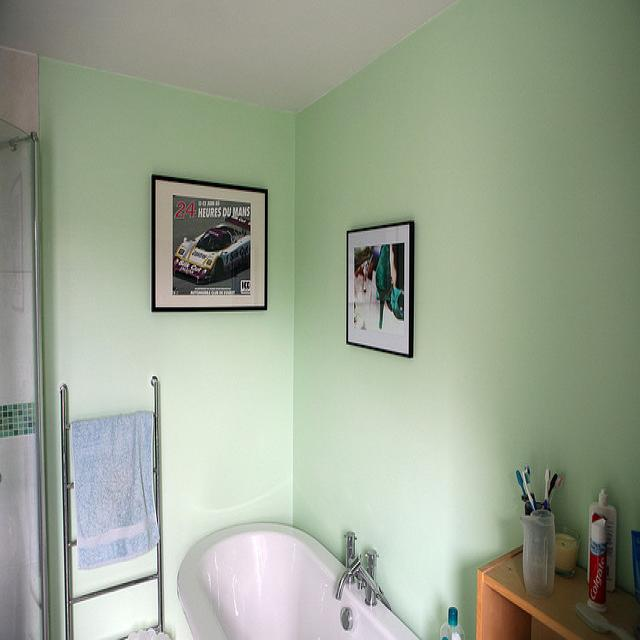Vehicle: (172, 214, 252, 284)
